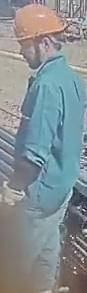gloves: (0, 180, 25, 208)
helmet: (11, 3, 65, 41)
vest: (14, 55, 85, 216)
